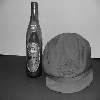beer: (26, 1, 42, 82)
